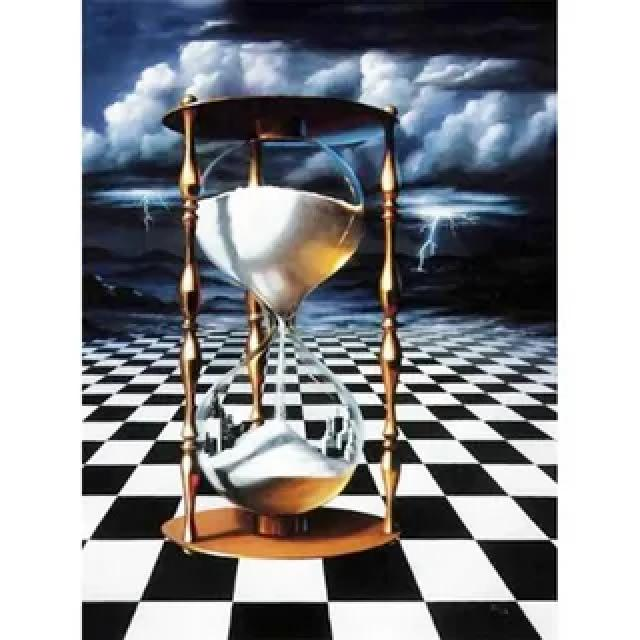clock: (155, 80, 409, 567)
